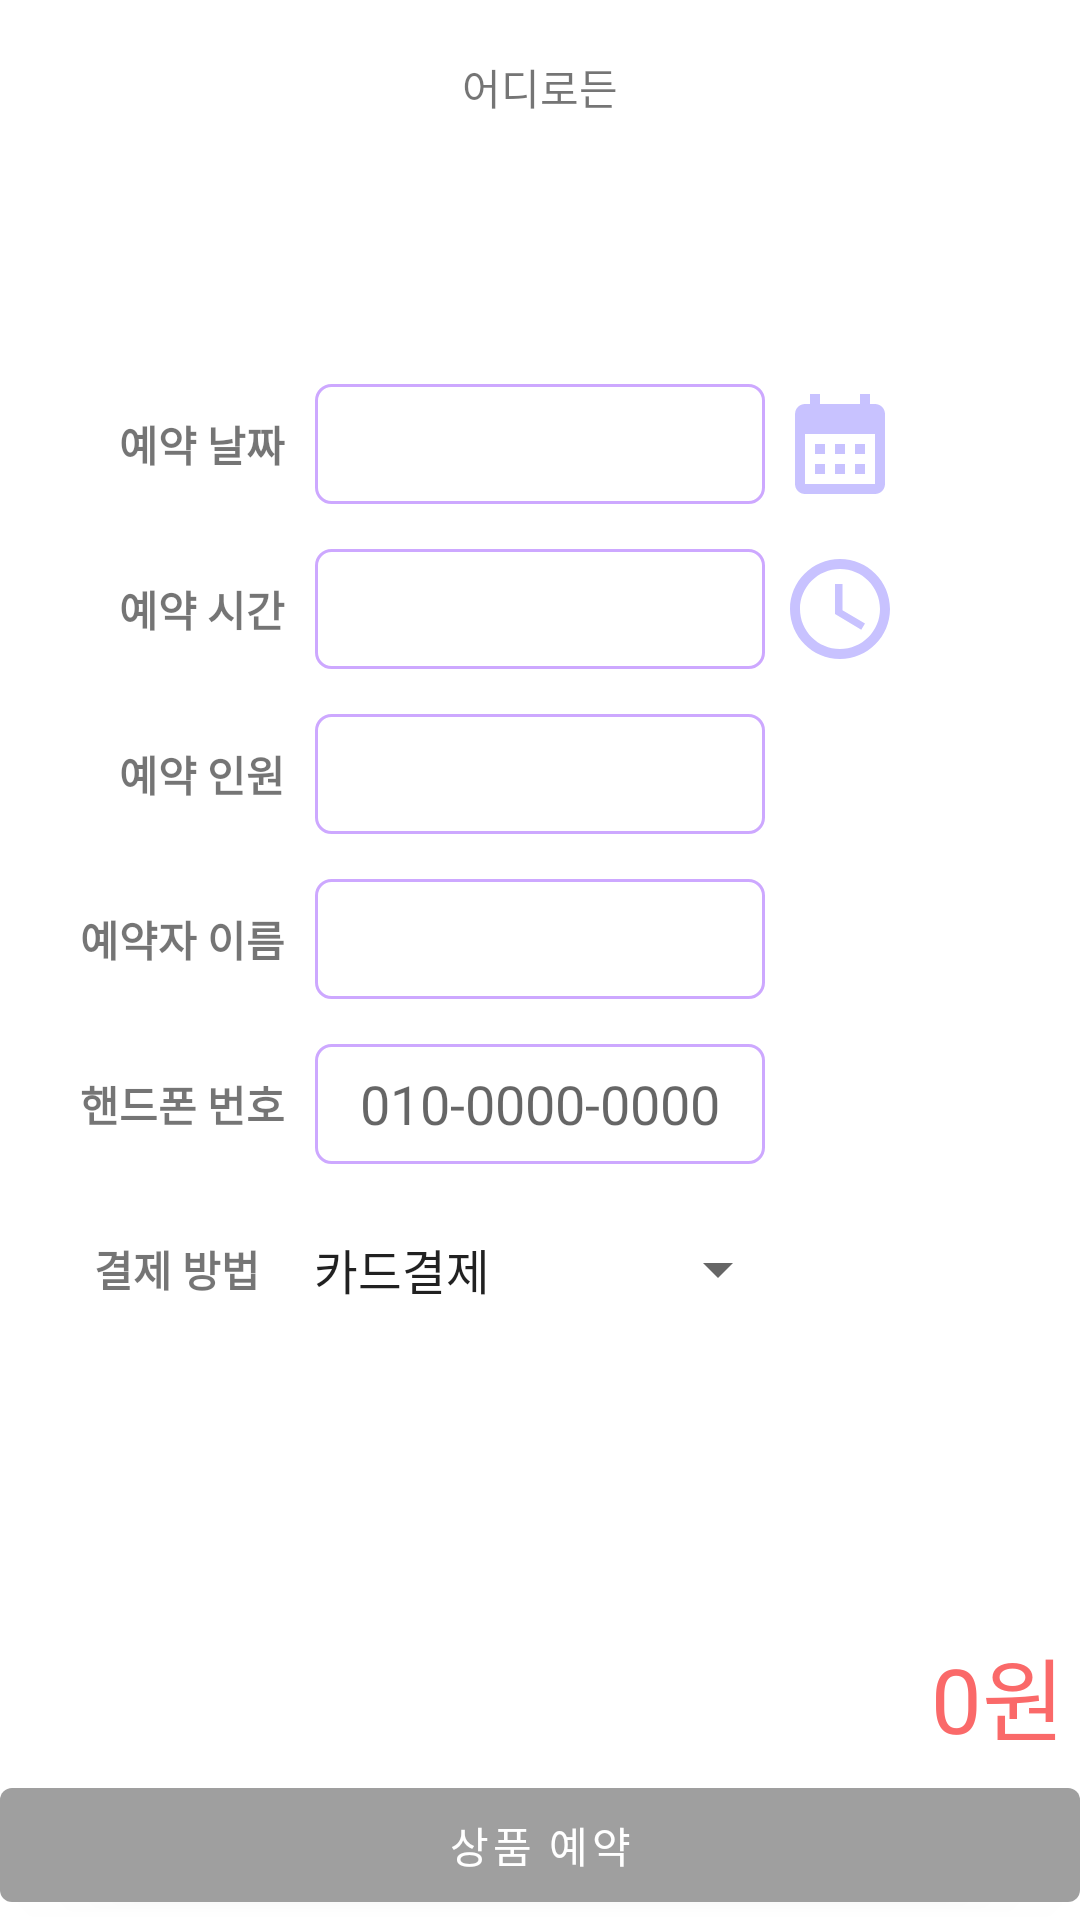

Screen size 1080 × 1920. Icon name, then its box in pixels as region(x1, y1, x2, y2):
access time: region(790, 559, 890, 659)
calendar month: region(795, 394, 885, 494)
